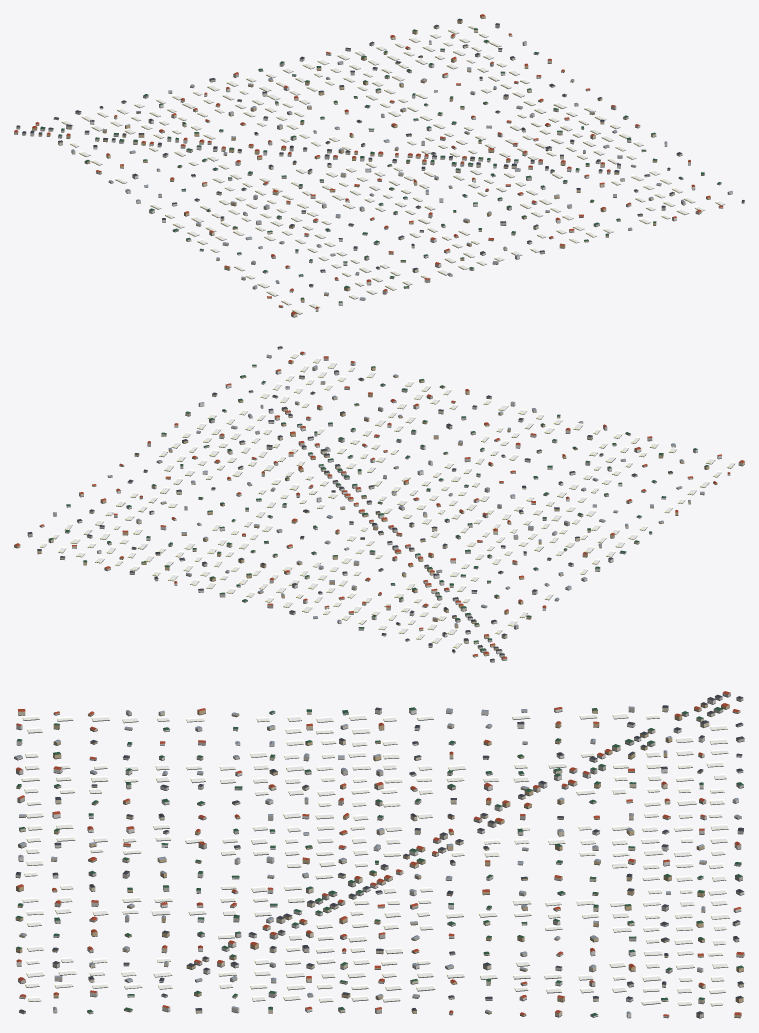
File: buildings_T_E05_S01.glb
3 renders of one model, top to bottom at view 1: azimuth 30°, elevation 25°; view 2: azimuth 150°, elevation 25°; view 3: azimuth 270°, elevation 25°, orthographic. The views are drawn at different scales.
Visible parts, largest first — view 1: T_E05_S01_roofs_agri_greenhouse_arch, T_E05_S01_slope_seating_foundations, T_E05_S01_walls_wall_french_ochre_villa, T_E05_S01_walls_wall_pastel_sand_gray, T_E05_S01_walls_wall_modern_warm_white, T_E05_S01_walls_wall_dalat_cream_stucco, T_E05_S01_roofs_roof_terracotta_gable, T_E05_S01_roofs_roof_pine_green_hip, T_E05_S01_roofs_roof_slate_French_villa_hip, T_E05_S01_roofs_roof_zinc_silver_gable; view 2: T_E05_S01_roofs_agri_greenhouse_arch, T_E05_S01_slope_seating_foundations, T_E05_S01_walls_wall_modern_warm_white, T_E05_S01_walls_wall_pastel_sand_gray, T_E05_S01_walls_wall_french_ochre_villa, T_E05_S01_walls_wall_dalat_cream_stucco, T_E05_S01_roofs_roof_terracotta_gable, T_E05_S01_roofs_roof_pine_green_hip, T_E05_S01_roofs_roof_slate_French_villa_hip, T_E05_S01_roofs_roof_zinc_silver_gable; view 3: T_E05_S01_roofs_agri_greenhouse_arch, T_E05_S01_slope_seating_foundations, T_E05_S01_walls_wall_french_ochre_villa, T_E05_S01_walls_wall_pastel_sand_gray, T_E05_S01_walls_wall_modern_warm_white, T_E05_S01_walls_wall_dalat_cream_stucco, T_E05_S01_roofs_roof_terracotta_gable, T_E05_S01_roofs_roof_pine_green_hip, T_E05_S01_roofs_roof_slate_French_villa_hip, T_E05_S01_roofs_roof_zinc_silver_gable.
Part boxes in pixels (x1,y1,x2,y2): T_E05_S01_roofs_agri_greenhouse_arch: (61,24,725,313); T_E05_S01_slope_seating_foundations: (14,17,744,317); T_E05_S01_walls_wall_french_ochre_villa: (32,15,710,302); T_E05_S01_walls_wall_pastel_sand_gray: (14,24,744,307); T_E05_S01_walls_wall_modern_warm_white: (30,35,732,311); T_E05_S01_walls_wall_dalat_cream_stucco: (35,26,721,317); T_E05_S01_roofs_roof_terracotta_gable: (14,14,722,314); T_E05_S01_roofs_roof_pine_green_hip: (40,28,721,302); T_E05_S01_roofs_roof_slate_French_villa_hip: (16,18,744,285); T_E05_S01_roofs_roof_zinc_silver_gable: (72,40,732,299); T_E05_S01_roofs_agri_greenhouse_arch: (40,352,735,647); T_E05_S01_slope_seating_foundations: (14,348,744,662); T_E05_S01_walls_wall_modern_warm_white: (39,353,721,653); T_E05_S01_walls_wall_pastel_sand_gray: (27,347,730,662); T_E05_S01_walls_wall_french_ochre_villa: (14,360,717,655); T_E05_S01_walls_wall_dalat_cream_stucco: (48,366,744,656); T_E05_S01_roofs_roof_terracotta_gable: (14,351,744,658); T_E05_S01_roofs_roof_pine_green_hip: (49,364,708,650); T_E05_S01_roofs_roof_slate_French_villa_hip: (27,346,672,660); T_E05_S01_roofs_roof_zinc_silver_gable: (53,354,704,626); T_E05_S01_roofs_agri_greenhouse_arch: (21,712,729,1005); T_E05_S01_slope_seating_foundations: (14,695,744,1018); T_E05_S01_walls_wall_french_ochre_villa: (15,704,743,1017); T_E05_S01_walls_wall_pastel_sand_gray: (15,693,744,1017); T_E05_S01_walls_wall_modern_warm_white: (14,699,744,1017); T_E05_S01_walls_wall_dalat_cream_stucco: (18,707,744,1016); T_E05_S01_roofs_roof_terracotta_gable: (16,691,743,1016); T_E05_S01_roofs_roof_pine_green_hip: (16,707,743,1016); T_E05_S01_roofs_roof_slate_French_villa_hip: (15,694,744,1014); T_E05_S01_roofs_roof_zinc_silver_gable: (14,706,741,1013).
Size of the model in its own units: 1877 by 32.14 by 1793.
